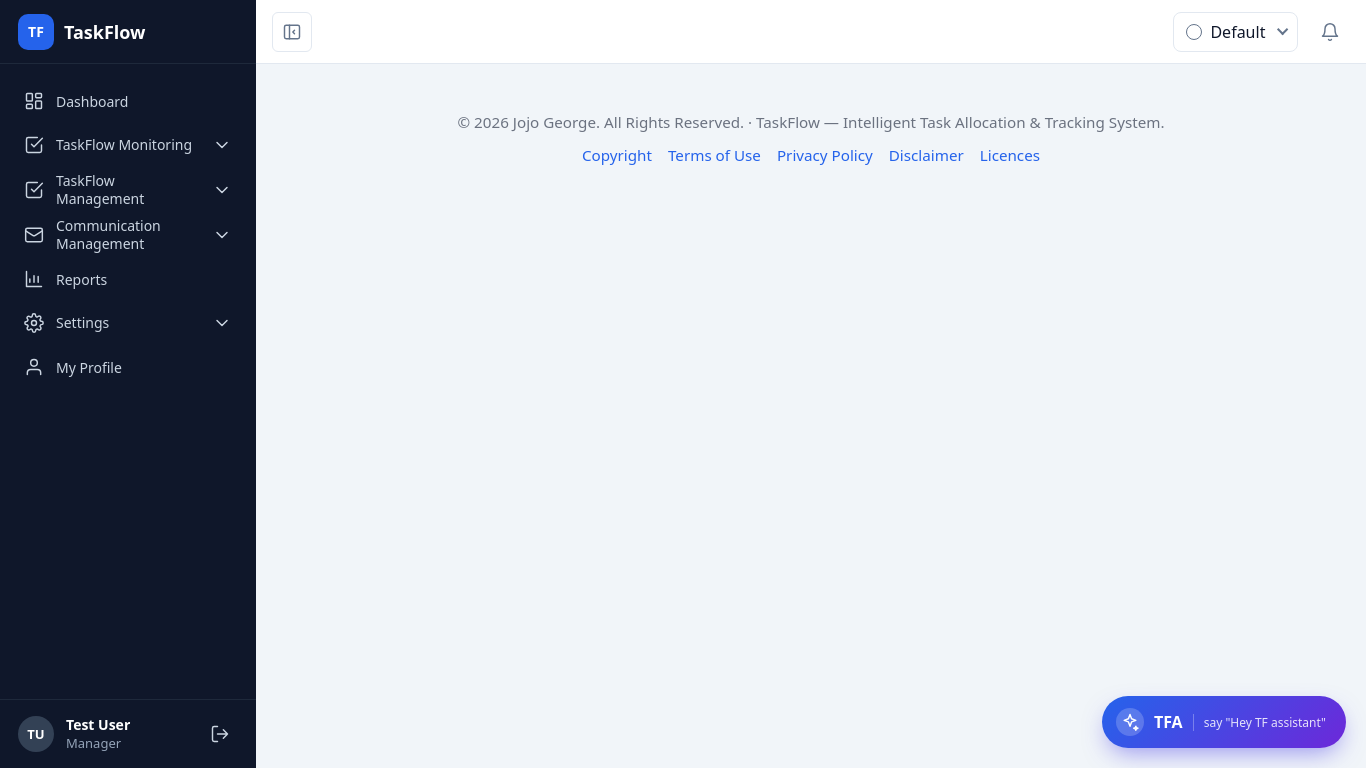
ShellComponent › shows Reminder Settings to Managers and resolves its header title
Click the button with class "nav__parent" showing "Settings": (128, 323) [12, 302, 244, 344]
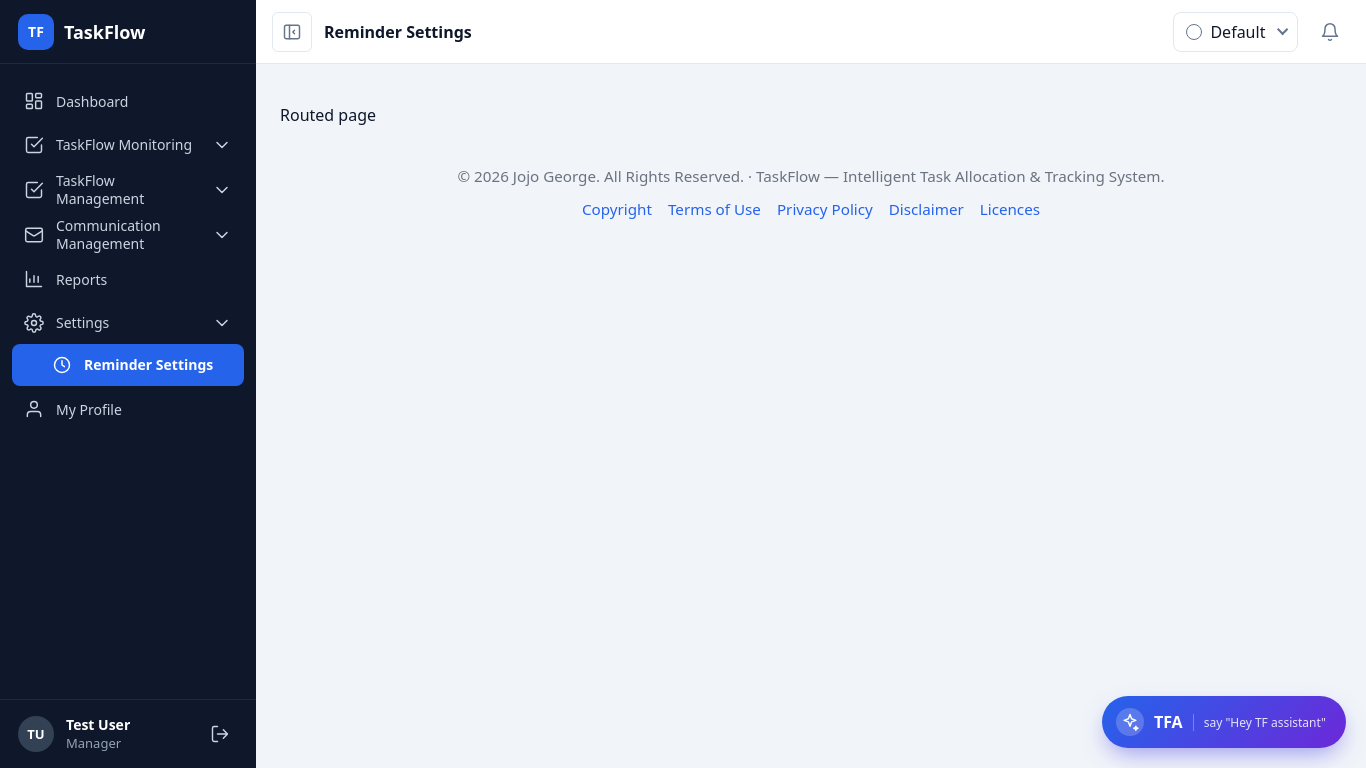
Check: the text with class "nav__text" below "Reports" reads "Reminder Settings", box [84, 355, 213, 374]
